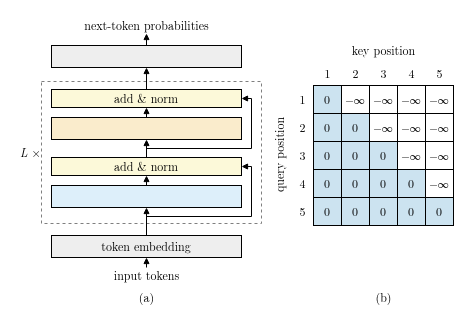
This 471x322 diagram has some shape labels left out. The centre of each missing label's shape, as x and y in pixels:
"feed-forward network" belongs at pixel 146 128.
"linear + softmax" belongs at pixel 146 56.
"masked multi-head self-attention" belongs at pixel 146 196.
